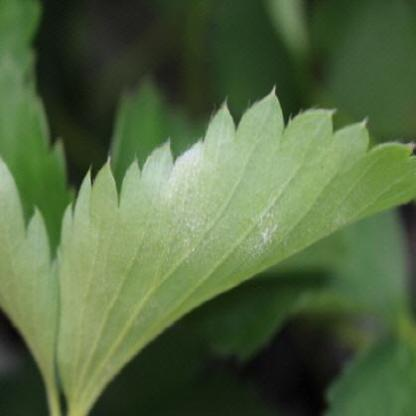Strawberry_Powdery_Mildew_Leaf: (52, 82, 415, 416)
